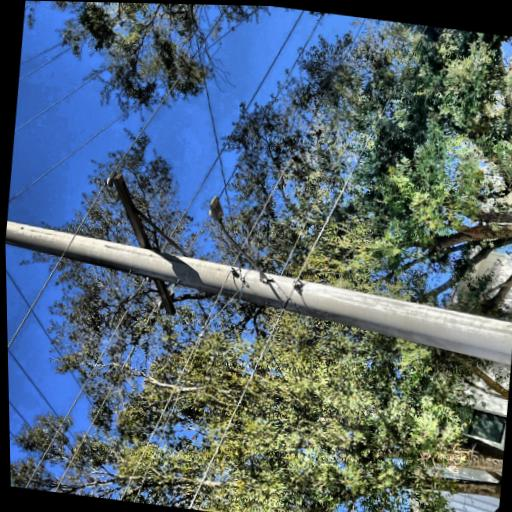pole: (0, 0, 186, 503)
street light: (90, 326, 174, 417)
